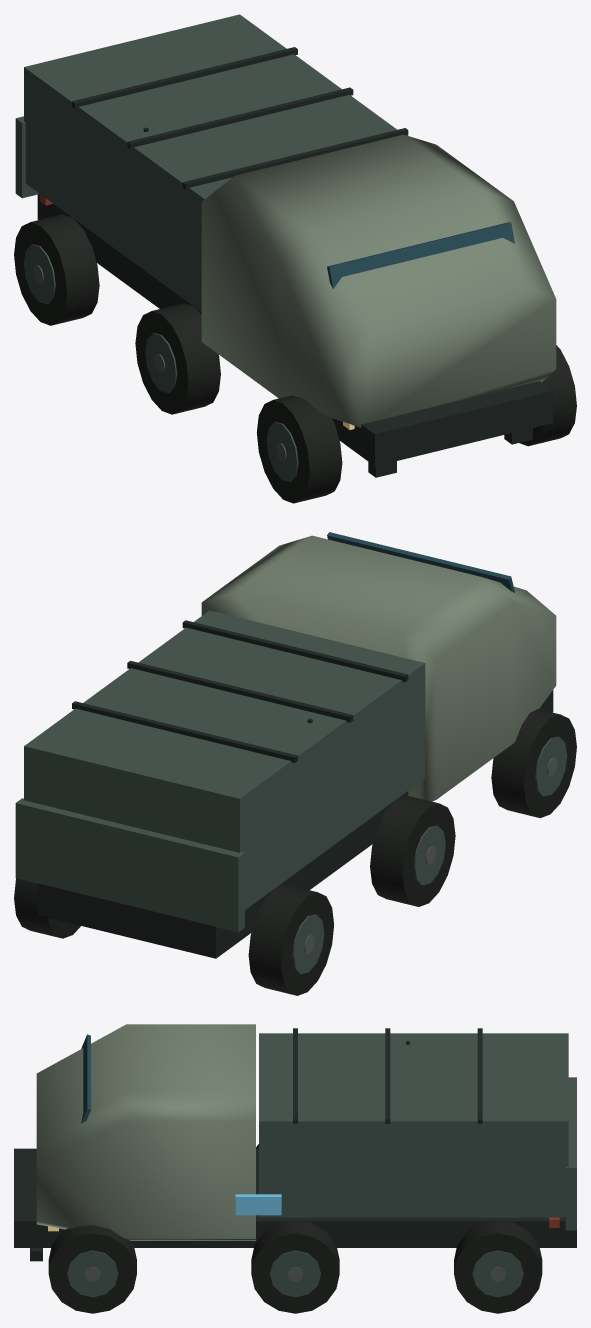
File: logiTruck.glb
3 renders of one model, top to bottom at view 1: azimuth 30°, elevation 25°; view 2: azimuth 150°, elevation 25°; view 3: azimuth 270°, elevation 25°, orthographic. The views are drawn at different scales.
Visible parts, largest first — view 1: armor, stowage, rubber, dark, trim, glass; view 2: stowage, armor, trim, rubber, dark, glass; view 3: stowage, armor, rubber, dark, trim, marking, glass, steel.
Boxes of the visible parts, x1,y1,x2,y2 form: armor: (201, 134, 556, 427); stowage: (24, 14, 396, 311); rubber: (14, 214, 576, 503); dark: (37, 47, 553, 477); trim: (15, 116, 298, 481); glass: (327, 222, 514, 288); stowage: (24, 610, 425, 909); armor: (201, 535, 556, 801); trim: (15, 736, 567, 974); rubber: (14, 709, 576, 995); dark: (37, 620, 553, 958); glass: (327, 532, 514, 592); stowage: (259, 1033, 568, 1217); armor: (36, 1024, 255, 1240); rubber: (48, 1144, 542, 1313); dark: (14, 1028, 576, 1261); trim: (67, 1077, 576, 1297); marking: (235, 1194, 281, 1215); glass: (81, 1034, 90, 1123); steel: (85, 1267, 505, 1281).
Bounding box in the file's own units: 2.84 × 2.4 × 6.1.
